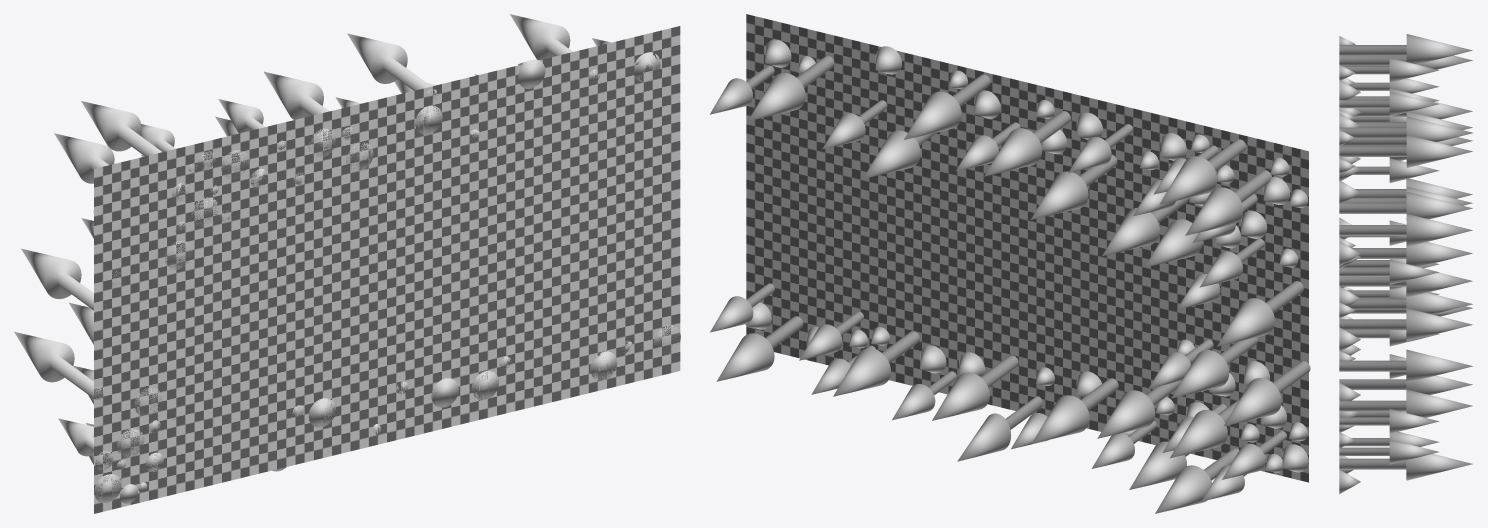
File: forest02.dae
3 views of the same model, side by side, from view 1: azimuth 30°, elevation 25°; view 2: azimuth 150°, elevation 25°; view 3: azimuth 270°, elevation 25° (orthographic). The views are drawn at different scales.
Parts seen in each view (by area): view 1: Plane.003, Cone.121, Cone.147, Cone.112, Cone.119, Cone.137, Cone.149, Cone.118, Cone.100, Cone.124; view 2: Plane.003, Cone.147, Cone.135, Cone.138, Cone.112, Cone.155, Cone.160, Cone.119, Cone.137, Cone.121, Cone.149, Cone.118 (+24 smaller); view 3: Cone.138, Cone.135, Cone.147, Cone.149, Cone.112, Cone.155, Cone.144, Cone.160, Cone.137, Cone.125, Cone.101, Cone.102 (+32 smaller).
Part boxes in pixels (box(x1,y1,x2,y2)): Plane.003: box(94, 26, 680, 513); Cone.121: box(14, 331, 104, 399); Cone.147: box(347, 33, 437, 100); Cone.112: box(81, 101, 162, 156); Cone.119: box(21, 248, 110, 310); Cone.137: box(264, 71, 353, 139); Cone.149: box(510, 14, 600, 82); Cone.118: box(54, 133, 140, 198); Cone.100: box(218, 99, 285, 150); Cone.124: box(58, 418, 125, 469); Plane.003: box(746, 14, 1308, 482); Cone.147: box(904, 74, 990, 139); Cone.135: box(1032, 378, 1118, 443); Cone.138: box(932, 355, 1018, 420); Cone.112: box(1159, 139, 1246, 204); Cone.155: box(833, 331, 919, 396); Cone.160: box(716, 316, 803, 381); Cone.119: box(1217, 281, 1303, 346); Cone.137: box(984, 111, 1070, 176); Cone.121: box(1224, 361, 1310, 426); Cone.149: box(748, 56, 834, 121); Cone.118: box(1185, 170, 1271, 235); Cone.138: box(1339, 349, 1472, 382); Cone.135: box(1339, 308, 1472, 341); Cone.147: box(1339, 135, 1473, 167); Cone.149: box(1339, 214, 1472, 246); Cone.112: box(1339, 34, 1472, 64); Cone.155: box(1339, 389, 1472, 417); Cone.144: box(1339, 192, 1472, 219); Cone.160: box(1339, 454, 1472, 480); Cone.137: box(1339, 116, 1472, 142); Cone.125: box(1351, 242, 1472, 266); Cone.101: box(1339, 272, 1472, 297); Cone.102: box(1348, 292, 1472, 314).
Bounding box in the file's own units: 65.58 × 16 × 37.96.
Materials: 1 (1 with a texture image).
